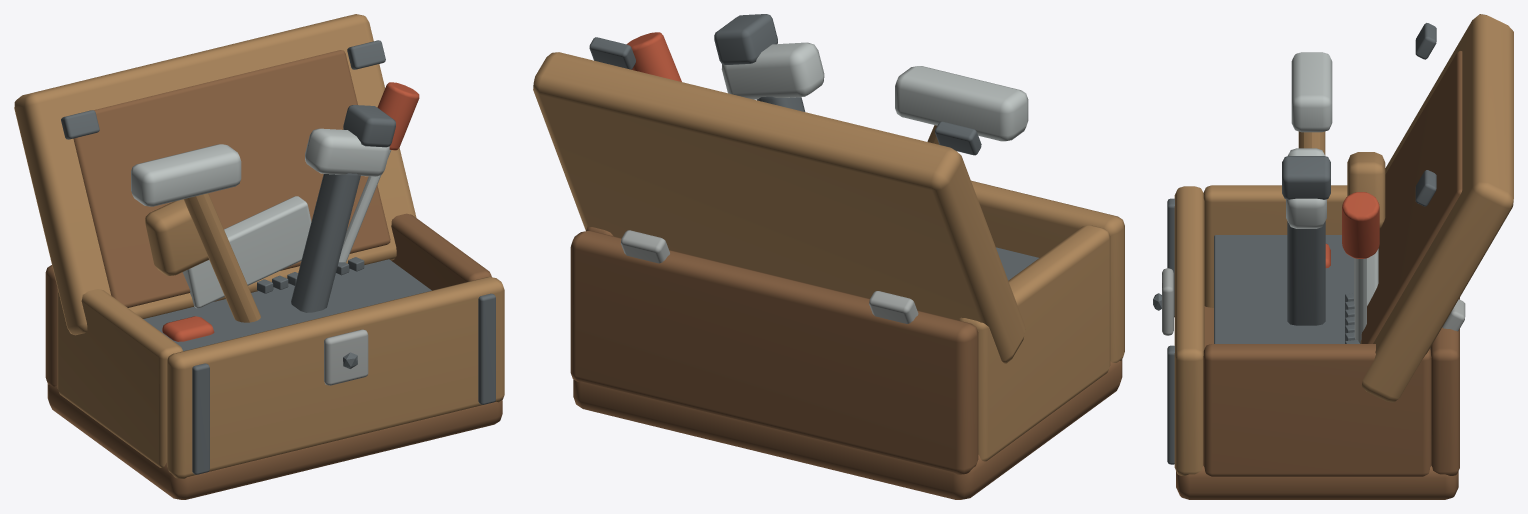
The model's file is caixa_ferramentas.glb.
The picture shows the model from 3 angles, left to right: view 1: azimuth 30°, elevation 25°; view 2: azimuth 150°, elevation 25°; view 3: azimuth 270°, elevation 25°; orthographic projection. The views are drawn at different scales.
Parts seen in each view (by area): view 1: Frente da caixa, Reforço da tampa, Tampa aberta, Lateral esquerda, Fundo da caixa, Fundo escuro interno, Lâmina do serrote, Cabo da chave, Cabeça do martelo, Lateral direita, Cabo do martelo, Cabo do serrote (+11 smaller); view 2: Tampa aberta, Traseira da caixa, Lateral esquerda, Fundo da caixa, Frente da caixa, Cabeça do martelo, Cabeça da chave, Abertura da chave, Cabo da chave de fenda, Dobradiça.001, Dobradiça, Canto de ferro da tampa (+2 smaller); view 3: Lateral direita, Tampa aberta, Reforço da tampa, Fundo escuro interno, Frente da caixa, Fundo da caixa, Lateral esquerda, Traseira da caixa, Cabo da chave, Cabeça do martelo, Cabo da chave de fenda, Abertura da chave (+11 smaller).
Boxes of the visible parts, <box> form: Frente da caixa: <box>167,277,504,478</box>; Reforço da tampa: <box>73,50,390,307</box>; Tampa aberta: <box>14,14,416,335</box>; Lateral esquerda: <box>57,289,182,467</box>; Fundo da caixa: <box>47,384,502,499</box>; Fundo escuro interno: <box>143,259,431,351</box>; Lâmina do serrote: <box>182,196,311,308</box>; Cabo da chave: <box>291,173,360,312</box>; Cabeça do martelo: <box>131,144,241,206</box>; Lateral direita: <box>391,213,491,290</box>; Cabo do martelo: <box>183,193,260,322</box>; Cabo do serrote: <box>145,199,208,275</box>; Tampa aberta: <box>533,52,1025,363</box>; Traseira da caixa: <box>570,231,978,474</box>; Lateral esquerda: <box>959,225,1110,461</box>; Fundo da caixa: <box>573,359,1122,499</box>; Frente da caixa: <box>971,180,1124,362</box>; Cabeça do martelo: <box>895,66,1028,141</box>; Cabeça da chave: <box>721,42,824,99</box>; Abertura da chave: <box>714,14,777,64</box>; Cabo da chave de fenda: <box>626,32,681,81</box>; Dobradiça.001: <box>620,230,669,263</box>; Dobradiça: <box>869,291,918,323</box>; Canto de ferro da tampa: <box>935,121,981,155</box>; Lateral direita: <box>1203,344,1431,476</box>; Tampa aberta: <box>1360,14,1513,402</box>; Reforço da tampa: <box>1361,50,1462,343</box>; Fundo escuro interno: <box>1214,235,1353,343</box>; Frente da caixa: <box>1174,186,1204,475</box>; Fundo da caixa: <box>1176,306,1458,499</box>; Lateral esquerda: <box>1203,185,1347,307</box>; Traseira da caixa: <box>1430,297,1459,475</box>; Cabo da chave: <box>1287,221,1325,325</box>; Cabeça do martelo: <box>1291,52,1332,132</box>; Cabo da chave de fenda: <box>1342,192,1379,258</box>; Abertura da chave: <box>1282,156,1330,199</box>.
Size of the model in its own units: 0.77 by 0.6531 by 0.6637.
